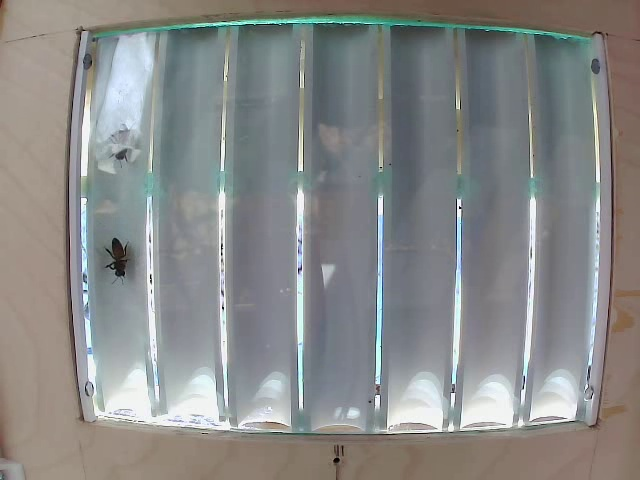bee: (89, 235, 135, 277)
